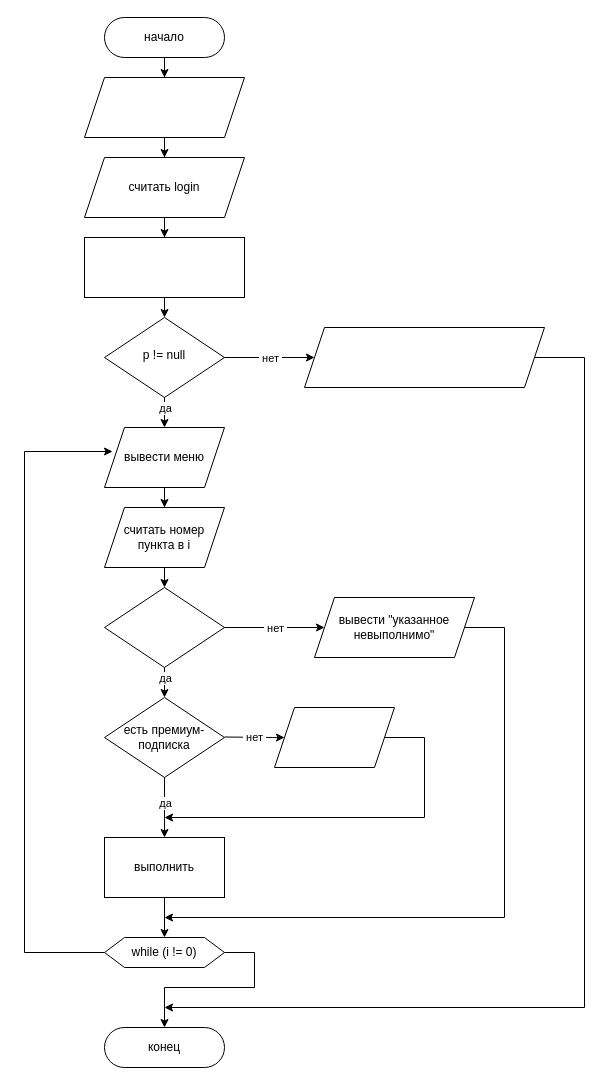
Some shapes in this 610 by 1085 pixel diagram are drawn without their labels. Each missing label, with the centre of its shape:
вывести "К сожалению, Вы не в списке": pixel 424 357
вывести рекламные сообщения: pixel 334 737
вывести: "введите логин:": pixel 164 107
есть такой пункт: pixel 164 627
инициализация p элементом списка, соответствующего введенному логину: pixel 164 267
